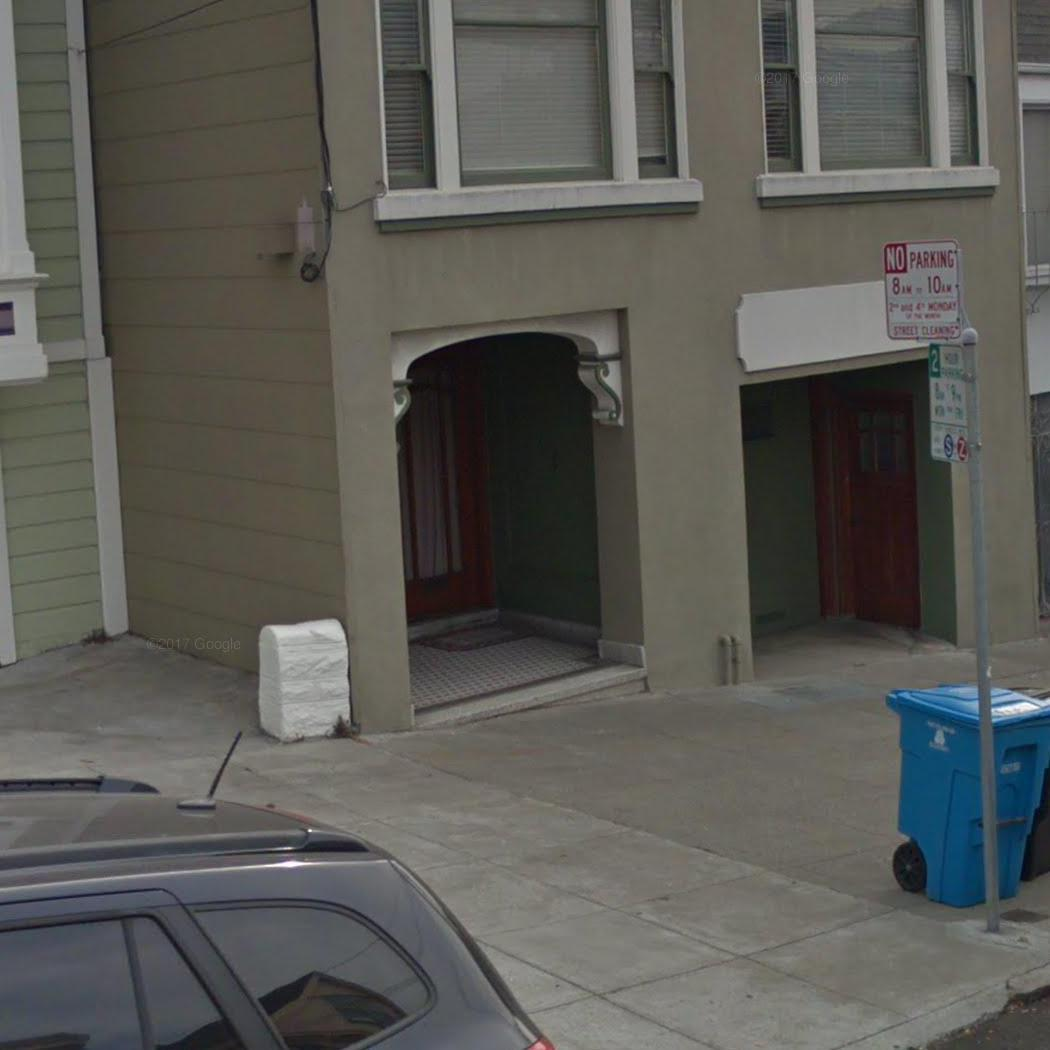2 Hour Parking: (927, 341, 969, 429)
No Parking: (881, 236, 964, 341)
